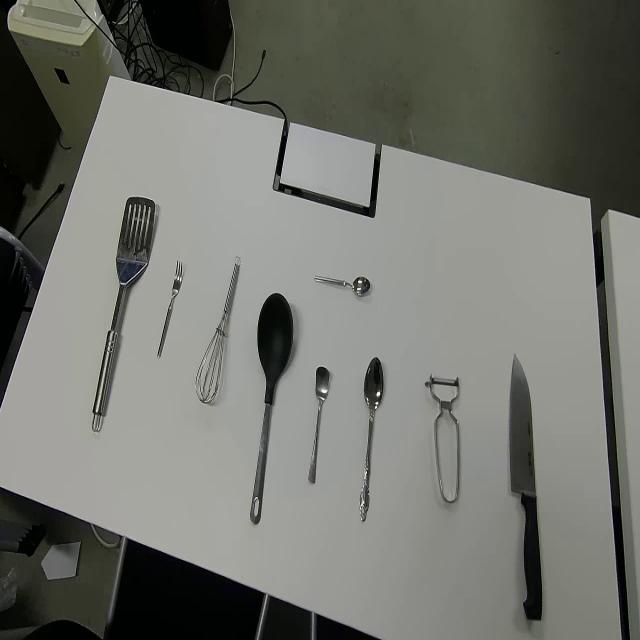Desert-Spoon: (358, 354, 384, 524)
Dinner-Fork: (157, 257, 186, 360)
Kitchen-Knife: (508, 351, 543, 622)
Peeler: (424, 370, 460, 505)
Serving-Spoon: (92, 195, 156, 432), (249, 290, 296, 526)
Tea-Spoon: (306, 364, 332, 487), (313, 271, 371, 304)
Whisk: (194, 253, 243, 405)
